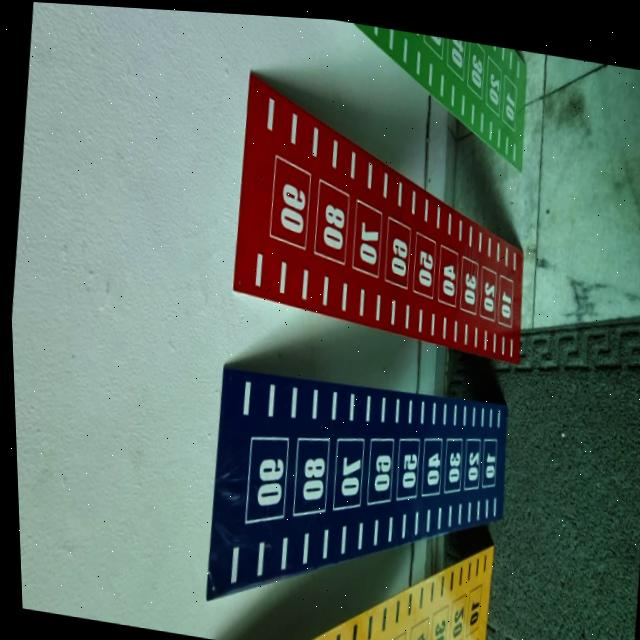water-meter: (207, 51, 553, 378), (177, 333, 528, 640)
